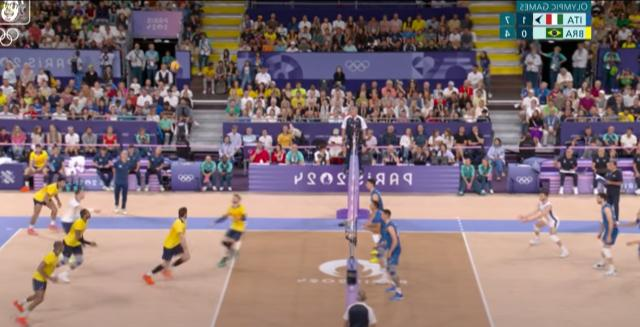Levantador: (209, 191, 251, 269), (380, 208, 406, 302)
Libero: (520, 189, 570, 257), (61, 188, 95, 214)
bola: (170, 58, 180, 72)
